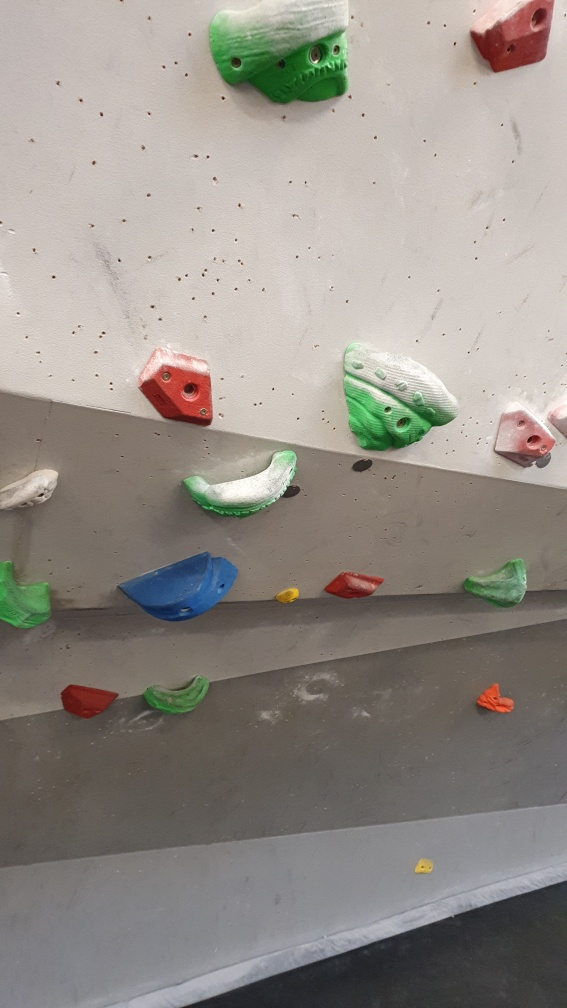Crimp: (468, 1, 560, 80), (137, 345, 218, 426), (492, 405, 559, 473), (312, 565, 389, 601)
Hand Start: (533, 449, 559, 480), (347, 448, 376, 472), (280, 484, 308, 501)
Jug: (202, 1, 356, 102), (335, 337, 462, 455), (177, 440, 302, 522), (1, 560, 69, 636), (456, 552, 535, 610), (143, 669, 212, 718), (1, 469, 61, 515)
Pinch: (114, 547, 241, 627)
